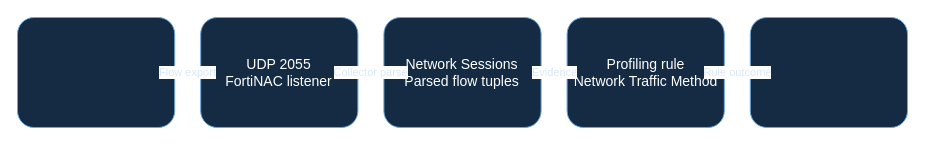
Some shapes in this 925 by 145 pixel diagram are drawn without their labels. The shapes that lost their labels are listed below. From the top down, each one's centre as x and y in pixels, then its label:
point (95, 72): Network exporter NetFlow v5/v9/IPFIX
point (828, 72): Host state Classified / registered
